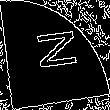N_W: (30, 32, 80, 78)
